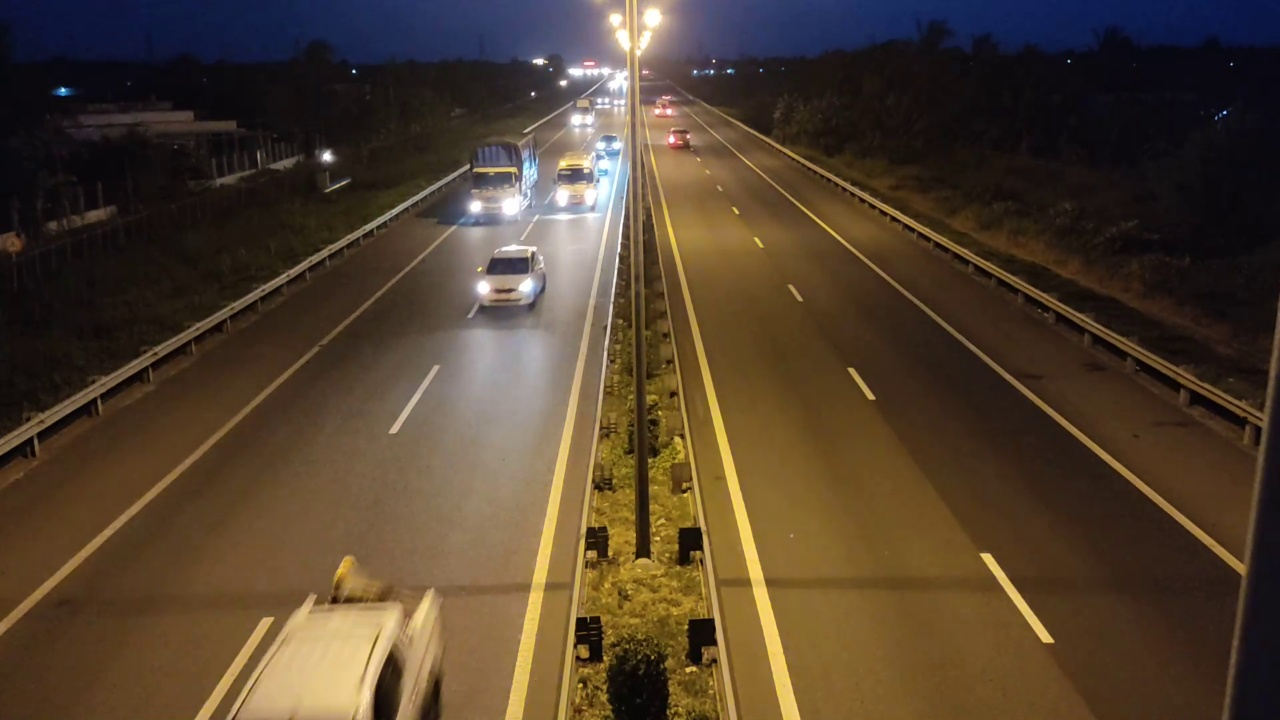car: (475, 244, 547, 309), (665, 127, 691, 149)
truck: (231, 555, 447, 719), (458, 119, 541, 220)
